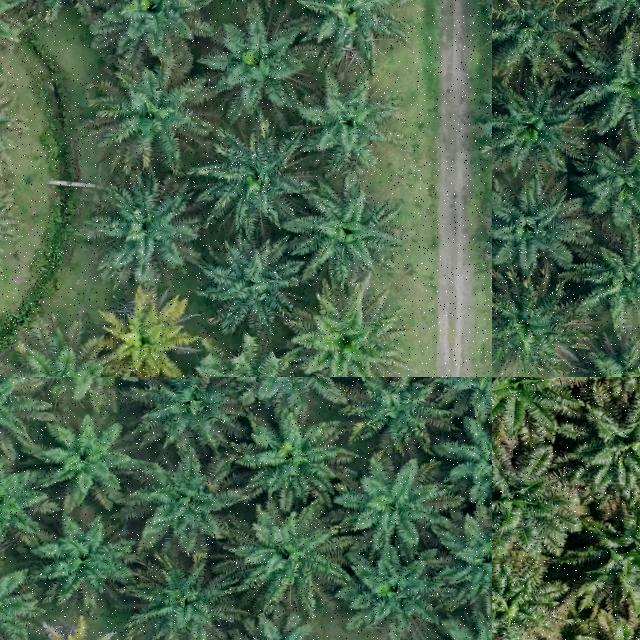Ganoderma: (112, 302, 184, 367), (40, 627, 117, 640)
